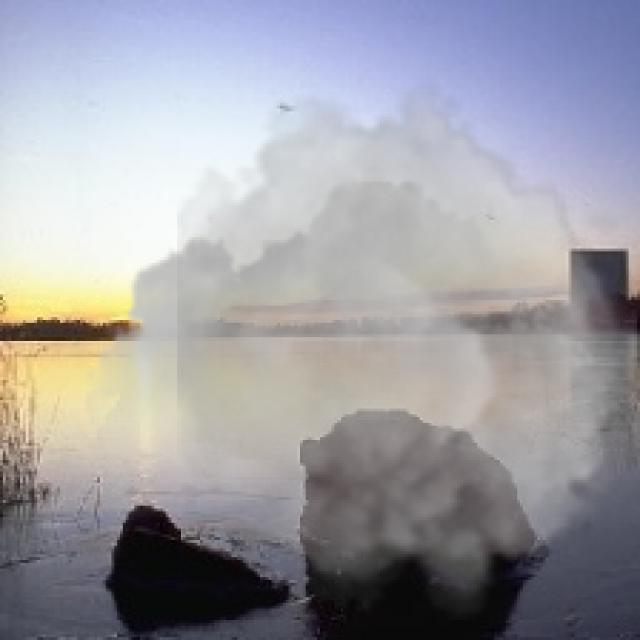smoke: (86, 77, 637, 620)
